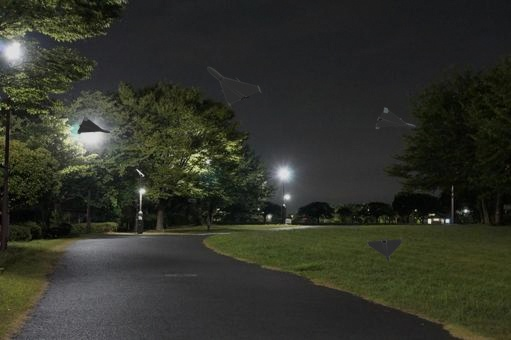shahed: (204, 63, 269, 108), (375, 106, 422, 132), (366, 236, 404, 262), (77, 115, 110, 137)
